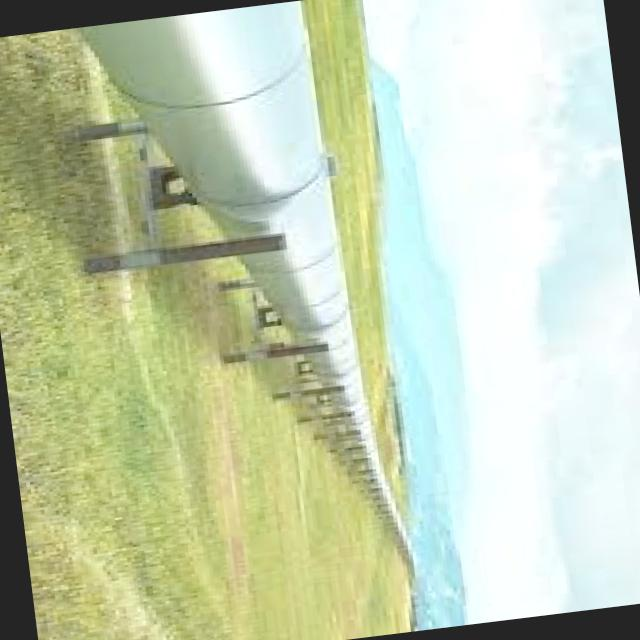gas: (80, 0, 401, 537)
